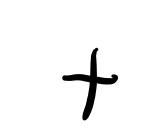plus: (60, 47, 117, 121)
